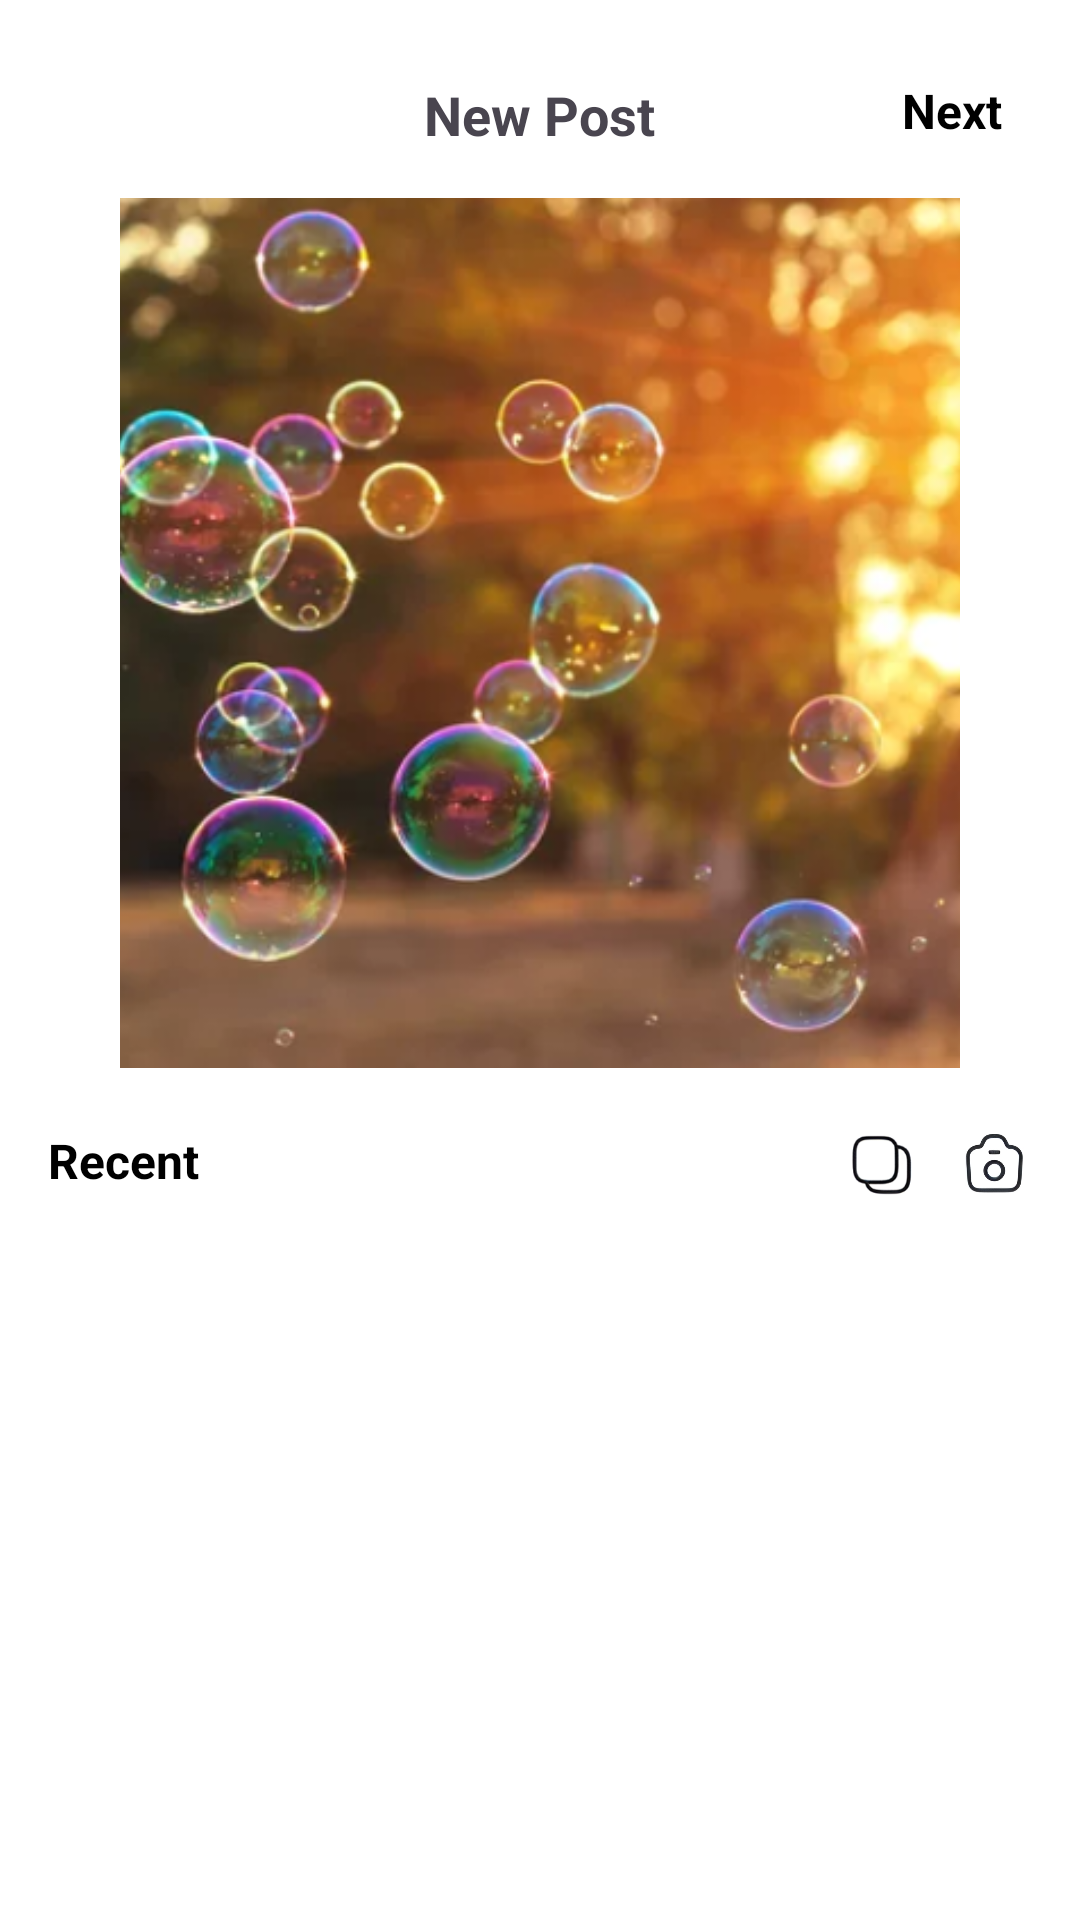

Where icons sit on this 1080w x 1920h app screen, as (x1, y1, x2, y2):
camera: (966, 1134, 1023, 1193)
coopy: (852, 1136, 911, 1194)
